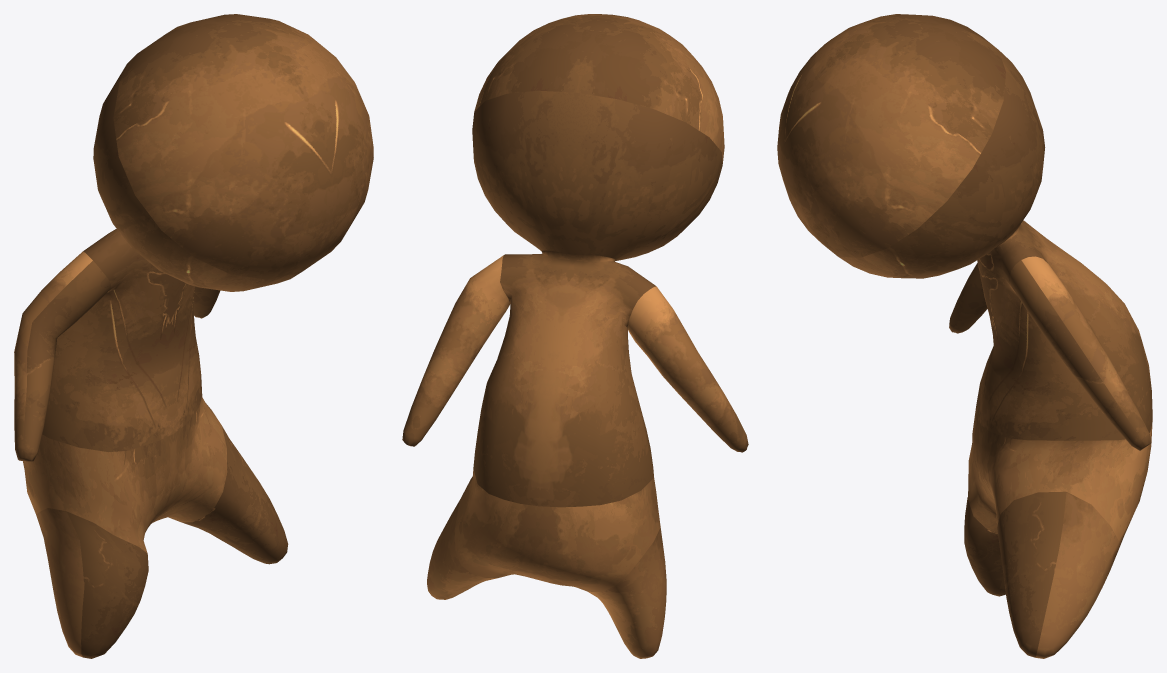
Rendered from personagem.fbx.
3 views of the same model, side by side, from view 1: azimuth 30°, elevation 25°; view 2: azimuth 150°, elevation 25°; view 3: azimuth 270°, elevation 25° (orthographic). The views are drawn at different scales.
Visible parts, largest first — view 1: polySurface12; view 2: polySurface12; view 3: polySurface12.
Part boxes in pixels (x1,y1,x2,y2): polySurface12: (14, 14, 373, 658); polySurface12: (402, 14, 748, 658); polySurface12: (777, 14, 1152, 658).
Bounding box in the file's own units: 29.33 × 57.54 × 31.99.
